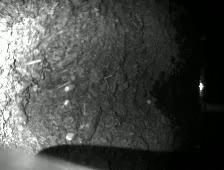corn: (66, 132, 76, 141), (64, 85, 75, 92), (63, 99, 70, 106), (146, 99, 151, 105)
